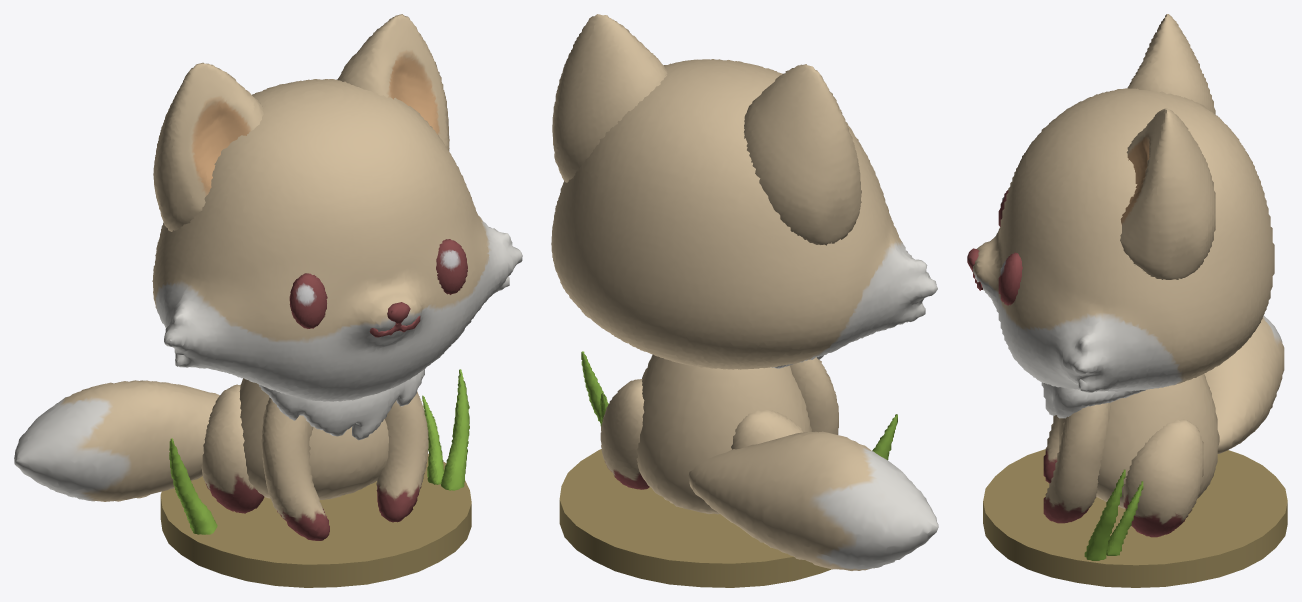
The model's file is cute_fox-transformed.glb.
3 views of the same model, side by side, from view 1: azimuth 30°, elevation 25°; view 2: azimuth 150°, elevation 25°; view 3: azimuth 270°, elevation 25° (orthographic). The views are drawn at different scales.
Visible parts, largest first — view 1: Object_3, Object_25; view 2: Object_3, Object_25; view 3: Object_3, Object_25.
Boxes of the visible parts, x1,y1,x2,y2 form: Object_3: (14,14,522,540); Object_25: (160,453,471,587); Object_3: (551,14,938,570); Object_25: (559,449,831,587); Object_3: (967,14,1284,560); Object_25: (983,449,1287,587).
Bounding box in the file's own units: 3.52 × 3.67 × 2.31.
